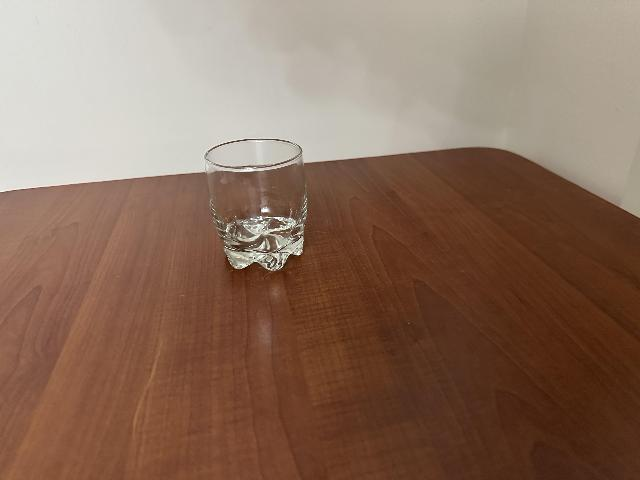Cam: (206, 137, 311, 275)
